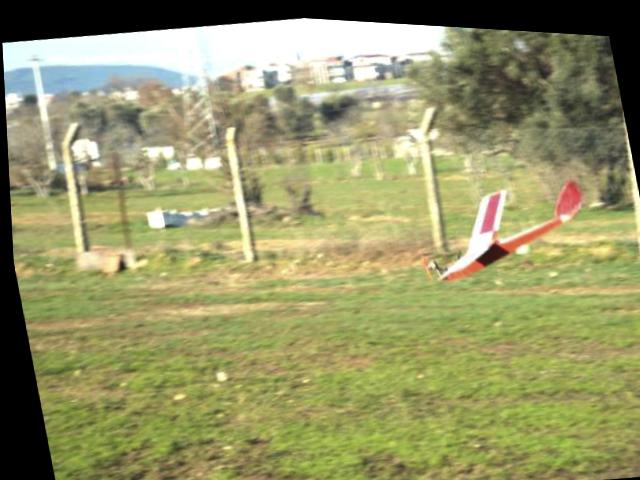iha: (387, 159, 612, 298)
